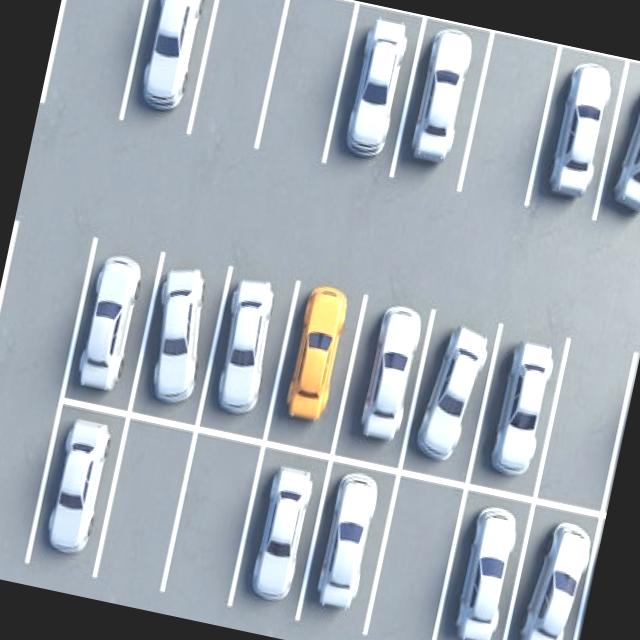car: (518, 43, 632, 236), (316, 0, 430, 191), (222, 437, 336, 628), (460, 314, 574, 504), (21, 392, 133, 585), (290, 453, 404, 640), (327, 288, 439, 474), (260, 274, 371, 459), (124, 247, 234, 430), (190, 261, 300, 444), (57, 230, 165, 416), (390, 17, 490, 210), (426, 478, 540, 640), (402, 306, 504, 481), (115, 0, 226, 144), (503, 503, 601, 640), (593, 59, 640, 249)
free: (451, 31, 566, 220), (87, 410, 201, 598), (527, 329, 640, 518), (249, 0, 363, 173), (358, 470, 471, 640), (162, 429, 264, 615), (37, 0, 157, 127), (188, 0, 288, 152)
